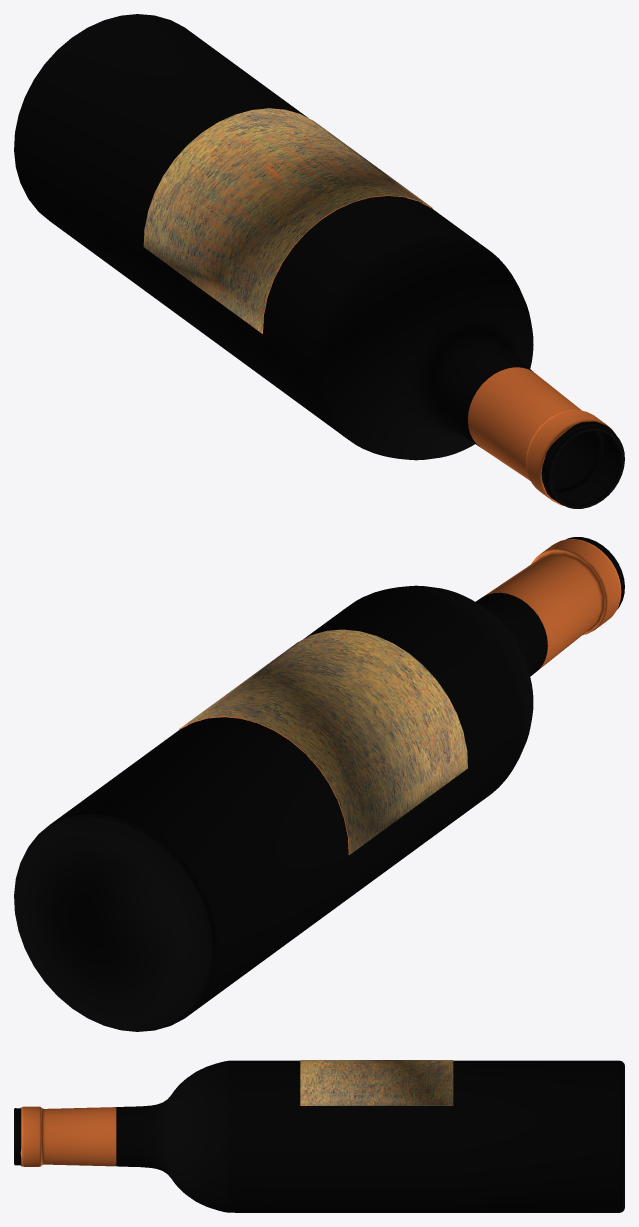
File: model_scale.obj
The picture shows the model from 3 angles, top to bottom: view 1: azimuth 30°, elevation 25°; view 2: azimuth 150°, elevation 25°; view 3: azimuth 270°, elevation 25°; orthographic projection. The views are drawn at different scales.
Parts seen in each view (by area): view 1: mesh2_mesh2-geometry, mesh1_mesh1-geometry; view 2: mesh2_mesh2-geometry, mesh1_mesh1-geometry; view 3: mesh2_mesh2-geometry, mesh1_mesh1-geometry.
Part boxes in pixels (x1,y1,x2,y2): mesh2_mesh2-geometry: [14, 14, 624, 508]; mesh1_mesh1-geometry: [143, 108, 432, 333]; mesh2_mesh2-geometry: [14, 537, 624, 1031]; mesh1_mesh1-geometry: [179, 629, 467, 854]; mesh2_mesh2-geometry: [14, 1060, 624, 1212]; mesh1_mesh1-geometry: [300, 1060, 453, 1105].
Bounding box in the file's own units: 0.0641 × 0.0641 × 0.2566.
